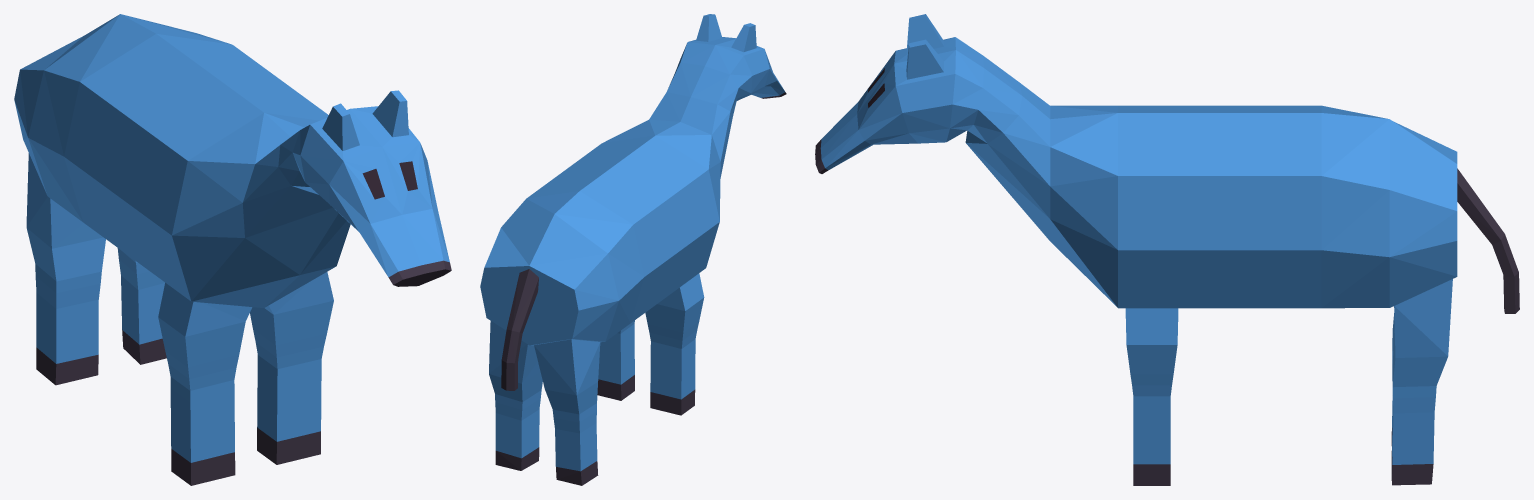
The model's file is player.dae.
3 views of the same model, side by side, from view 1: azimuth 30°, elevation 25°; view 2: azimuth 150°, elevation 25°; view 3: azimuth 270°, elevation 25° (orthographic). The views are drawn at different scales.
Visible parts, largest first — view 1: Player; view 2: Player; view 3: Player.
Part boxes in pixels (<box>): Player: <box>14,14,451,485</box>; Player: <box>480,14,786,485</box>; Player: <box>815,14,1519,485</box>.
Size of the model in its own units: 0.4939 by 1.73 by 1.16.
Materials: 1 (1 with a texture image).
